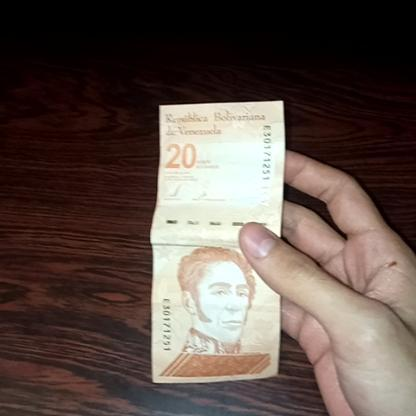twenty-front-vef: (150, 102, 286, 385)
